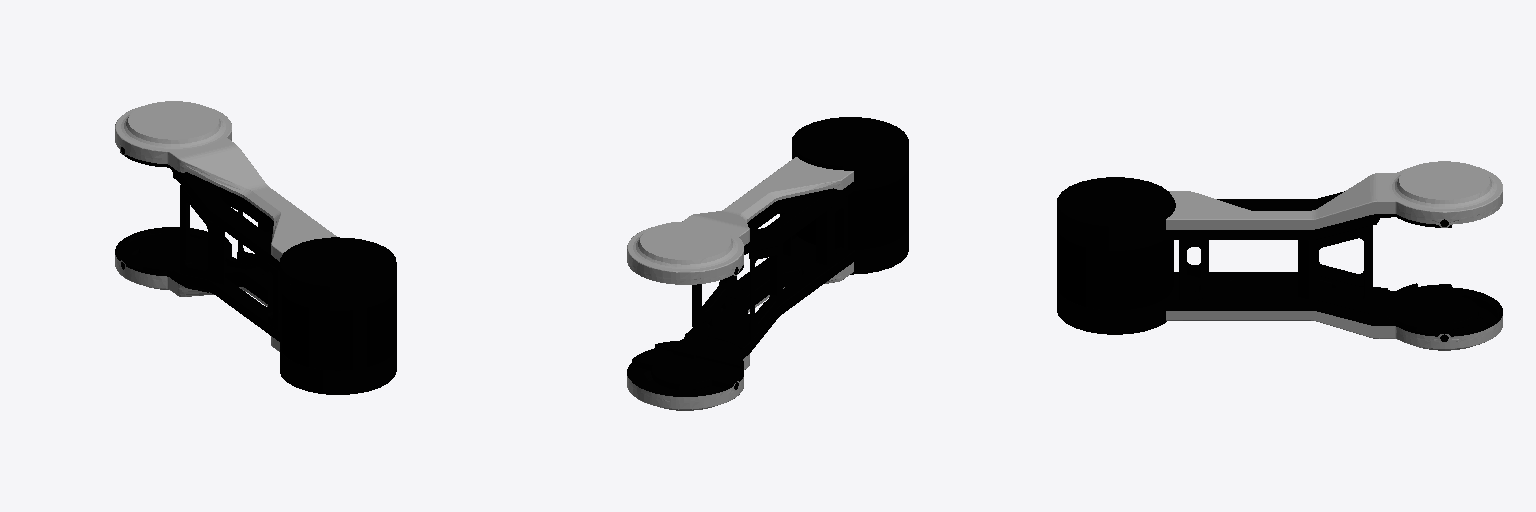
File: torso1.obj
The picture shows the model from 3 angles: view 1: azimuth 30°, elevation 25°; view 2: azimuth 150°, elevation 25°; view 3: azimuth 270°, elevation 25°; orthographic projection.
Visible parts, largest first — view 1: torso_link1; view 2: torso_link1; view 3: torso_link1.
Part boxes in pixels (bbox=[...]): torso_link1: bbox=[115, 101, 396, 394]; torso_link1: bbox=[627, 117, 908, 410]; torso_link1: bbox=[1057, 161, 1502, 350].
Size of the model in its own units: 0.125 by 0.177 by 0.475.